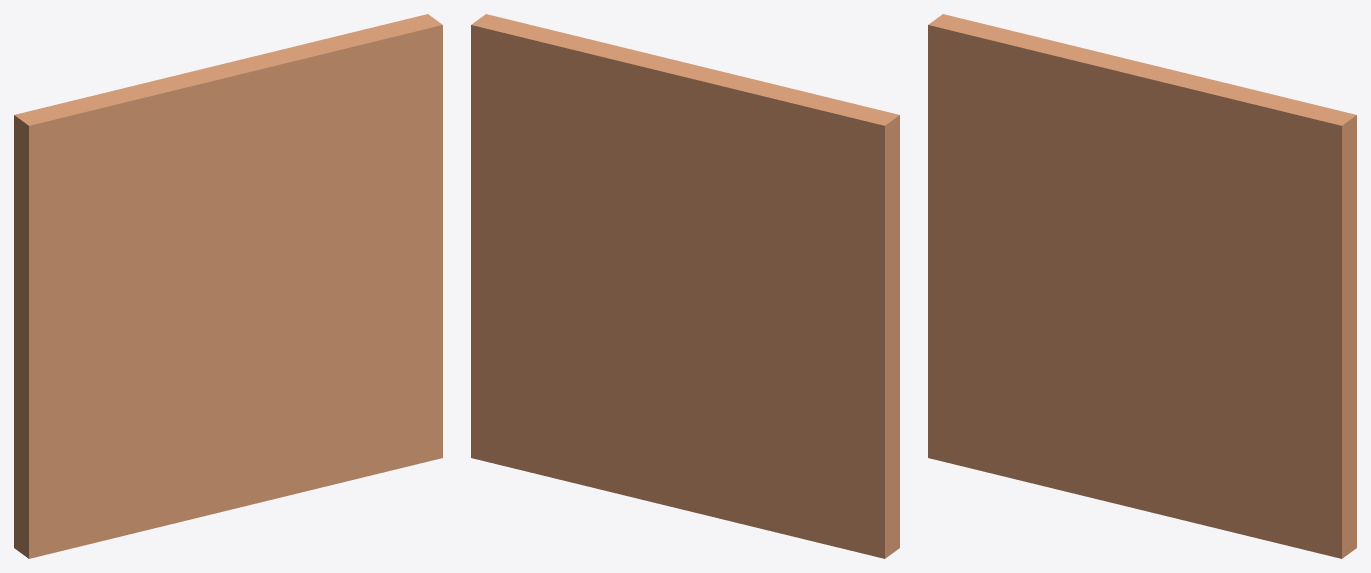
3 views of the same model, side by side, from view 1: azimuth 30°, elevation 25°; view 2: azimuth 150°, elevation 25°; view 3: azimuth 330°, elevation 25° (orthographic).
Size of the model in its own units: 16 by 16 by 1.
